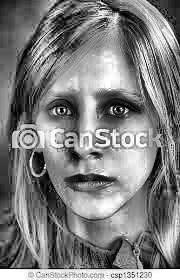happy: (17, 20, 166, 252)
